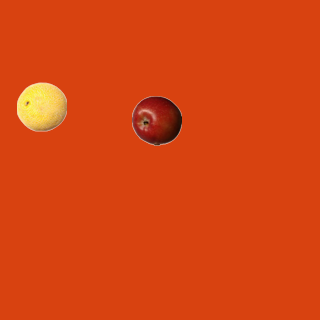Apple Braeburn: (131, 95, 181, 145)
Cantaloupe 1: (16, 81, 66, 131)
